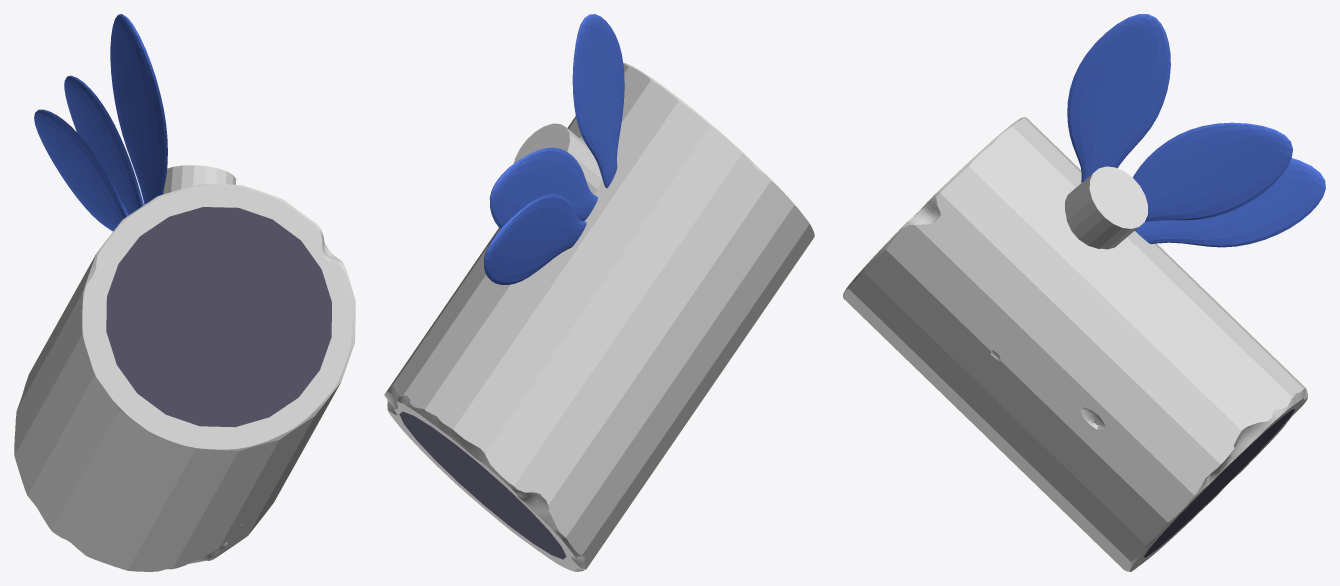
The model's file is wood_ice.fbx.
3 renders of one model, left to right at view 1: azimuth 30°, elevation 25°; view 2: azimuth 150°, elevation 25°; view 3: azimuth 270°, elevation 25°, orthographic. The views are drawn at different scales.
Parts seen in each view (by area): view 1: Cylinder, Plane, Plane.002, Plane.001, Cylinder.001; view 2: Cylinder, Plane, Plane.002, Plane.001, Cylinder.001; view 3: Cylinder, Plane, Plane.001, Plane.002, Cylinder.001.
Part boxes in pixels (x1,y1,x2,y2): Cylinder: (14, 184, 355, 571); Plane: (110, 14, 167, 204); Plane.002: (34, 109, 128, 231); Plane.001: (64, 75, 143, 215); Cylinder.001: (163, 165, 236, 194); Cylinder: (384, 62, 814, 571); Plane: (572, 14, 624, 188); Plane.002: (484, 193, 586, 284); Plane.001: (489, 147, 597, 228); Cylinder.001: (514, 123, 602, 194); Cylinder: (843, 117, 1307, 571); Plane: (1067, 14, 1170, 182); Plane.001: (1133, 122, 1292, 221); Plane.002: (1135, 158, 1325, 247); Cylinder.001: (1065, 166, 1147, 249).
Size of the model in its own units: 111 by 196 by 162.
